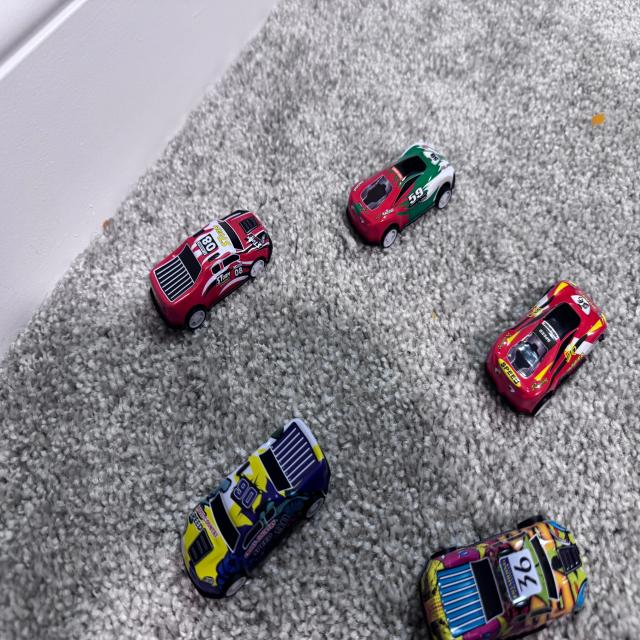car: (154, 400, 342, 620), (116, 208, 291, 364), (411, 498, 589, 640), (315, 110, 474, 268), (499, 270, 613, 417)
